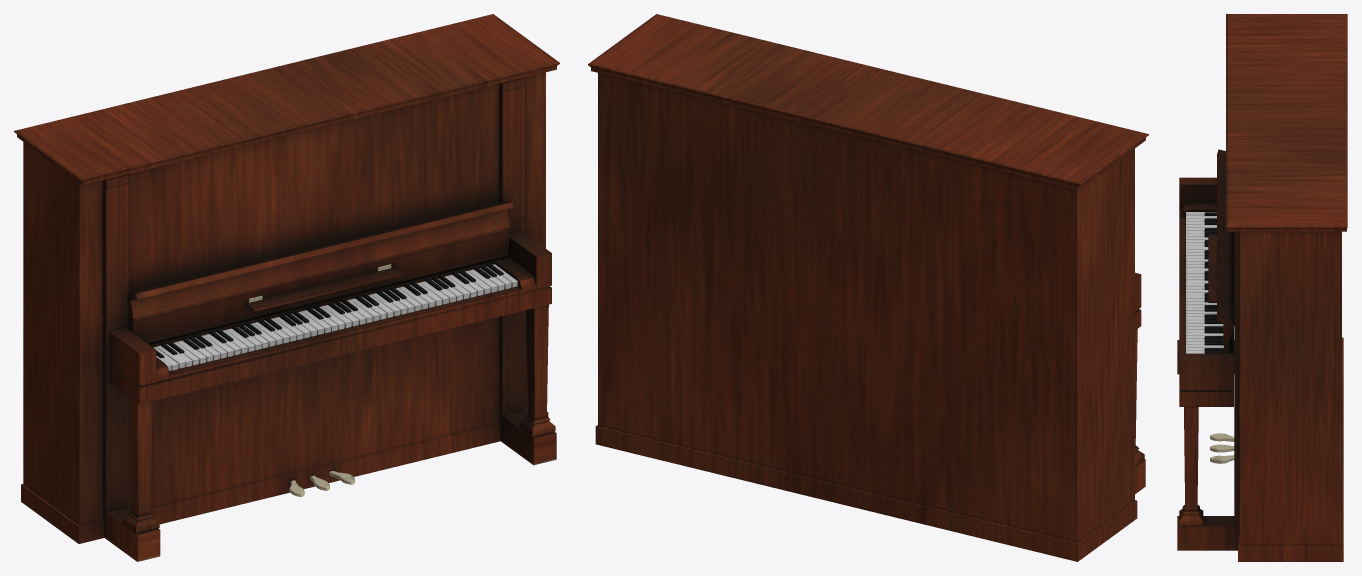
The model's file is Piano.glb.
The picture shows the model from 3 angles, left to right: view 1: azimuth 30°, elevation 25°; view 2: azimuth 150°, elevation 25°; view 3: azimuth 270°, elevation 25°; orthographic projection. The views are drawn at different scales.
Visible parts, largest first — view 1: polySurface4; view 2: polySurface4; view 3: polySurface4.
Part boxes in pixels (bbox=[...]): polySurface4: bbox=[14, 14, 559, 561]; polySurface4: bbox=[588, 14, 1148, 561]; polySurface4: bbox=[1177, 14, 1347, 561].
Bounding box in the file's own units: 1235 × 913 × 417.
Materials: 1 (1 with a texture image).
